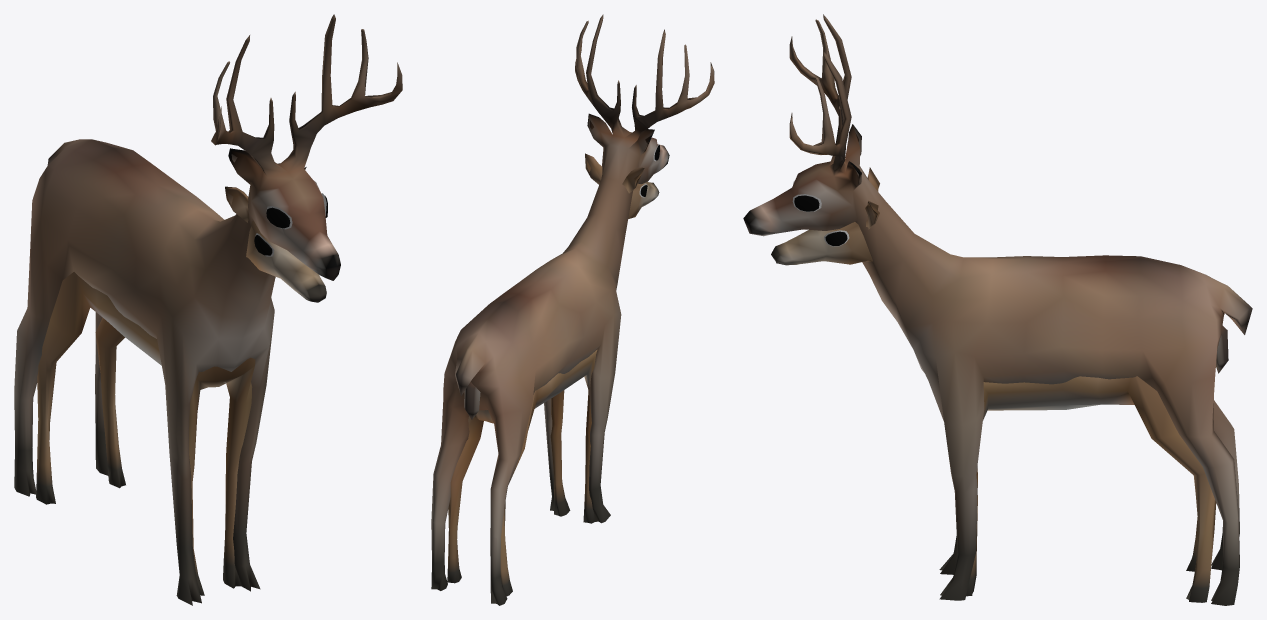
Rendered from Deer.fbx.
3 renders of one model, left to right at view 1: azimuth 30°, elevation 25°; view 2: azimuth 150°, elevation 25°; view 3: azimuth 270°, elevation 25°, orthographic. The views are drawn at different scales.
Parts seen in each view (by area): view 1: alt584, alt585; view 2: alt584, alt585; view 3: alt584, alt585.
Part boxes in pixels (box(x1,y1,x2,y2)): alt584: box(14, 14, 402, 605); alt585: box(36, 167, 326, 595); alt584: box(431, 14, 714, 605); alt585: box(447, 153, 659, 596); alt584: box(743, 14, 1252, 605); alt585: box(771, 167, 1228, 602).
Bounding box in the file's own units: 0.696 × 2.21 × 1.84.
